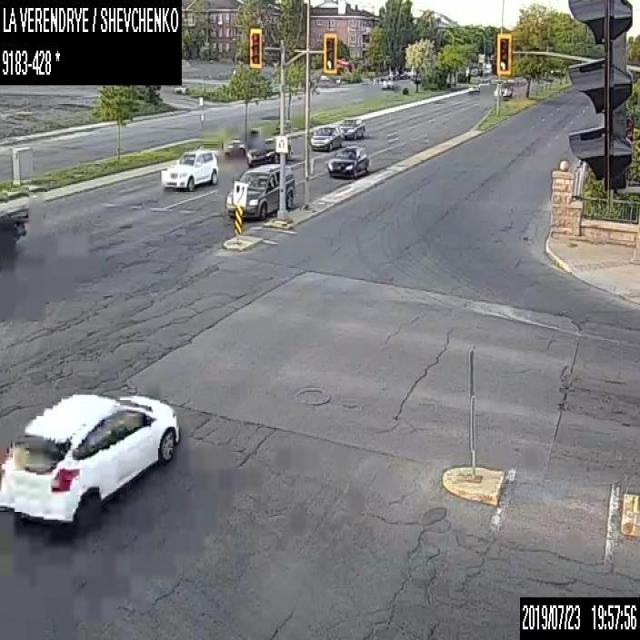vehicle: (0, 389, 178, 527), (226, 162, 294, 218), (161, 148, 222, 189), (0, 202, 28, 259), (326, 145, 369, 176), (246, 136, 290, 166), (309, 123, 342, 150), (338, 116, 365, 140), (492, 82, 512, 98), (468, 76, 481, 93)
